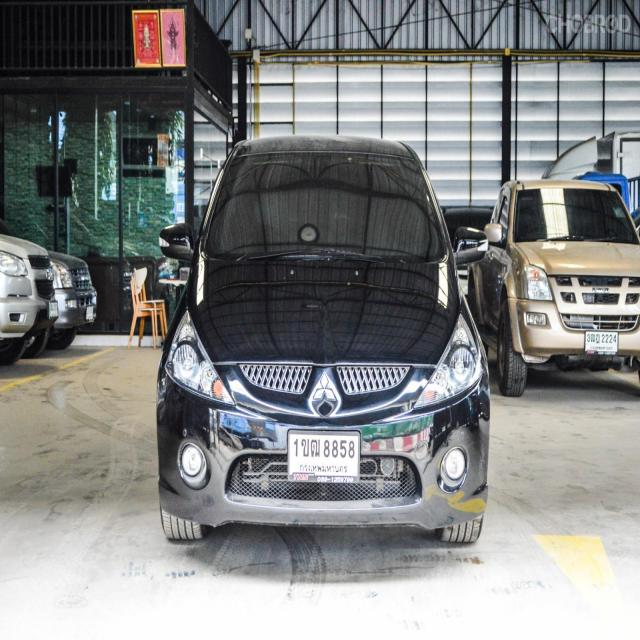license_plate: (284, 424, 362, 487)
